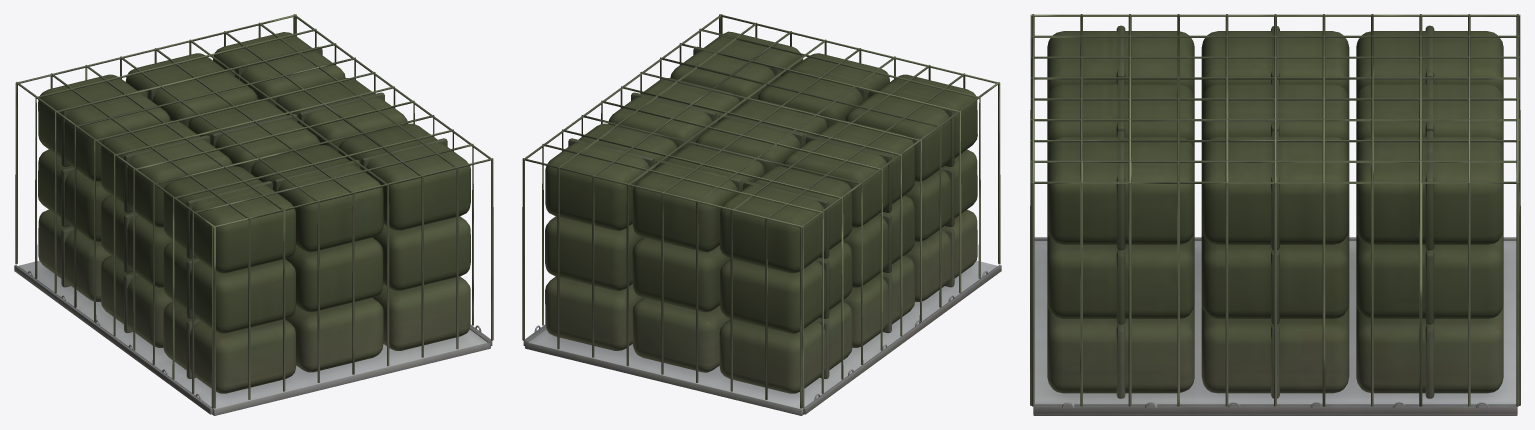
The model's file is mts-stowed-web.glb.
3 views of the same model, side by side, from view 1: azimuth 30°, elevation 25°; view 2: azimuth 150°, elevation 25°; view 3: azimuth 270°, elevation 25° (orthographic). The views are drawn at different scales.
Parts seen in each view (by area): view 1: MTS_packed; view 2: MTS_packed; view 3: MTS_packed.
Boxes of the visible parts, bbox=[...] form: MTS_packed: bbox=[14, 14, 493, 415]; MTS_packed: bbox=[522, 14, 1001, 415]; MTS_packed: bbox=[1030, 14, 1520, 415].
Bounding box in the file's own units: 2.28 × 1.47 × 2.78.
Materials: 5 (5 with a texture image).
